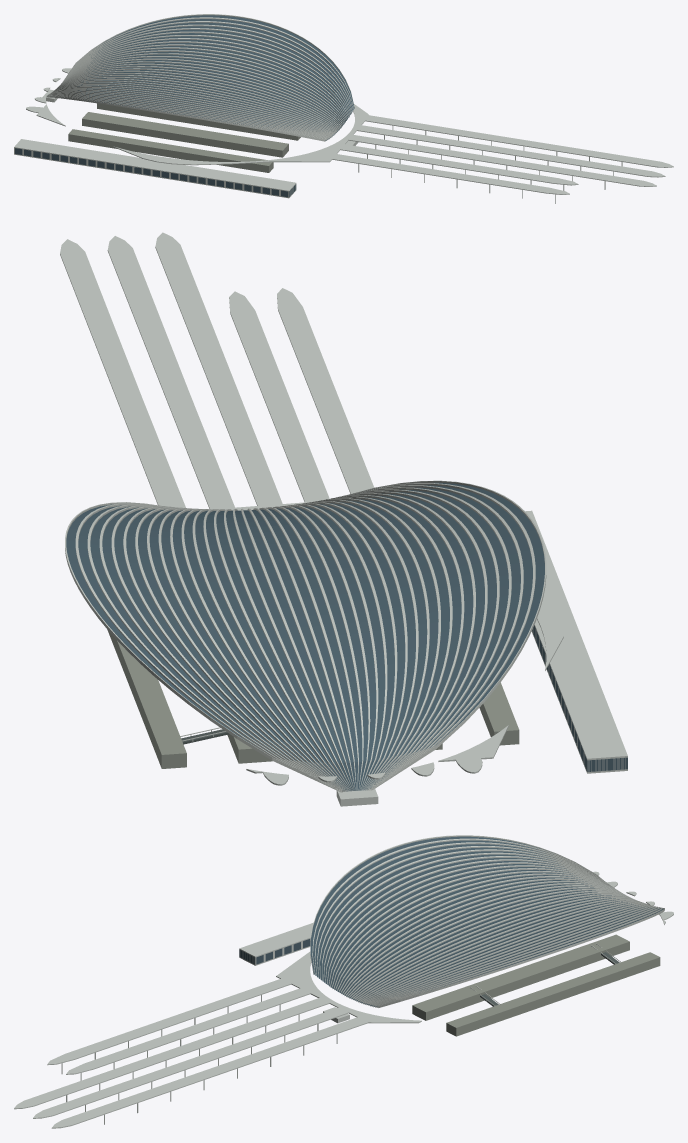
Rendered from liege-guillemins-near.glb.
The picture shows the model from 3 angles, top to bottom: view 1: azimuth 30°, elevation 25°; view 2: azimuth 150°, elevation 25°; view 3: azimuth 270°, elevation 25°; orthographic projection. The views are drawn at different scales.
Parts seen in each view (by area): view 1: liege-guillemins-0-white, liege-guillemins-0-glass, liege-guillemins-0-platform; view 2: liege-guillemins-0-white, liege-guillemins-0-glass, liege-guillemins-0-platform; view 3: liege-guillemins-0-white, liege-guillemins-0-glass, liege-guillemins-0-platform.
Part boxes in pixels (<box>): liege-guillemins-0-white: <box>14,14,673,203</box>; liege-guillemins-0-glass: <box>15,15,354,197</box>; liege-guillemins-0-platform: <box>68,103,300,172</box>; liege-guillemins-0-white: <box>60,232,627,806</box>; liege-guillemins-0-glass: <box>66,482,627,791</box>; liege-guillemins-0-platform: <box>107,630,519,768</box>; liege-guillemins-0-white: <box>14,835,673,1128</box>; liege-guillemins-0-glass: <box>239,836,663,1006</box>; liege-guillemins-0-platform: <box>412,934,660,1036</box>.
Bounding box in the file's own units: 342 × 40 × 338.
